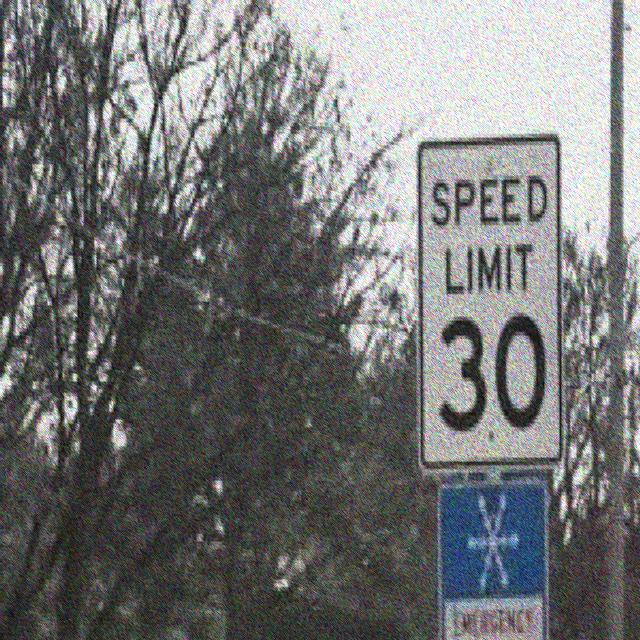speedLimit30: (412, 138, 570, 476)
